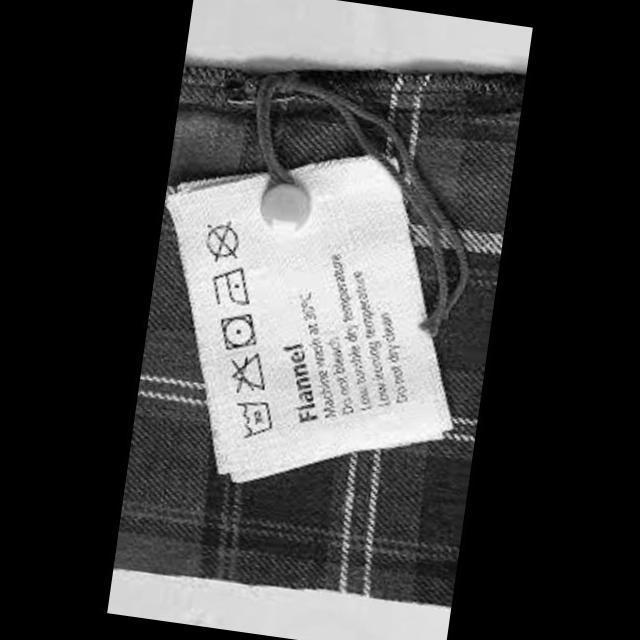30C: (228, 394, 278, 444)
DN_bleach: (224, 347, 272, 398)
DN_dry_clean: (200, 215, 246, 268)
iron_low: (205, 262, 257, 312)
tumble_dry_low: (213, 308, 264, 357)
